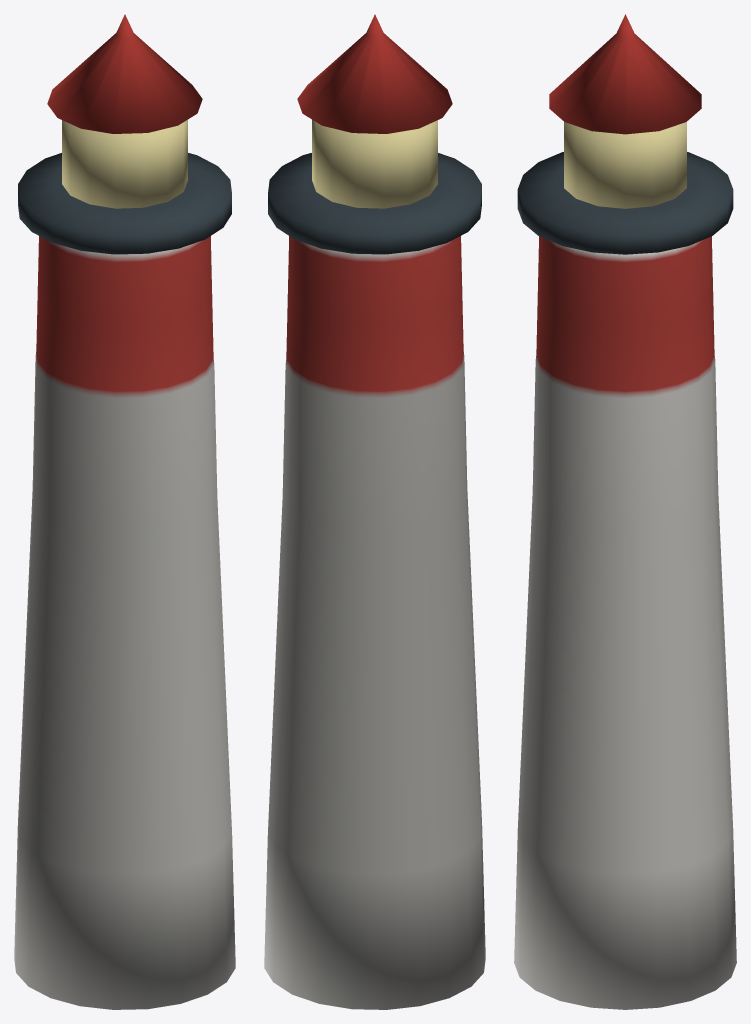
Rendered from Coast_Lighthouse.fbx.
3 renders of one model, left to right at view 1: azimuth 30°, elevation 25°; view 2: azimuth 150°, elevation 25°; view 3: azimuth 270°, elevation 25°, orthographic.
Visible parts, largest first — view 1: Coast_Lighthouse; view 2: Coast_Lighthouse; view 3: Coast_Lighthouse.
Part boxes in pixels (bbox=[...]): Coast_Lighthouse: bbox=[14, 14, 235, 1009]; Coast_Lighthouse: bbox=[264, 14, 485, 1009]; Coast_Lighthouse: bbox=[514, 14, 736, 1009].
Size of the model in its own units: 6 by 28.2 by 6.
